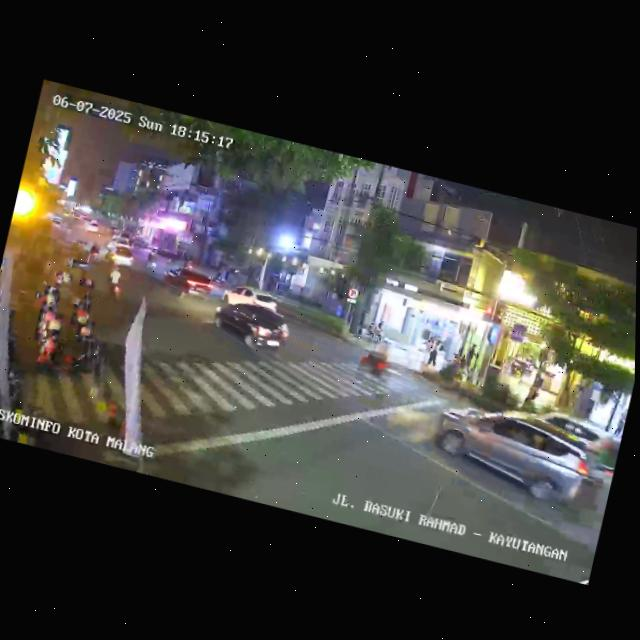car: (425, 390, 596, 511), (208, 291, 295, 361), (526, 406, 614, 471), (163, 263, 215, 307), (221, 282, 282, 315), (100, 238, 138, 270)
motorcycle: (355, 337, 399, 384), (104, 261, 127, 301)
person: (460, 343, 477, 381), (526, 374, 543, 408), (425, 336, 442, 368), (419, 334, 434, 365), (613, 407, 627, 438)
